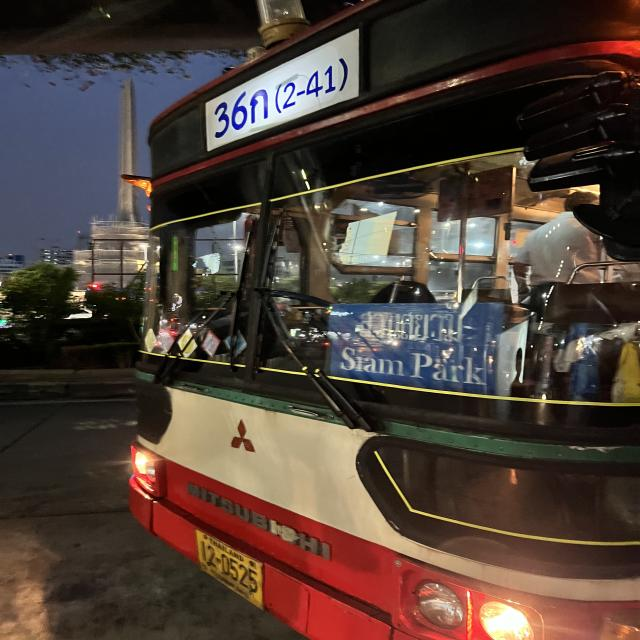BMTA-bus: (106, 0, 640, 640)
Bus-Line-Number: (206, 28, 356, 149)
Destination-Sign-Normal: (329, 300, 500, 394)
